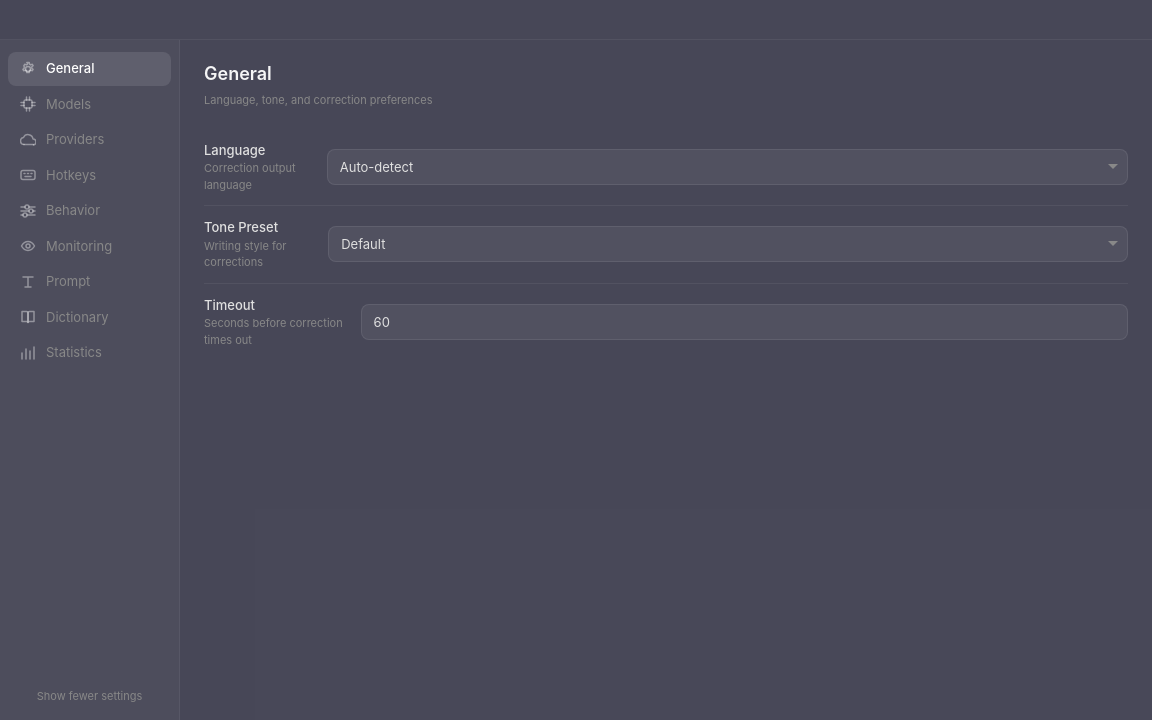
Scenario: Settings component › floating toast appears after config change
Expected: the text "Language" is shown, [204, 142, 266, 158]
Select "Spanish" in the dropdown next to "Correction output language" at (727, 167), box [327, 149, 1128, 185]
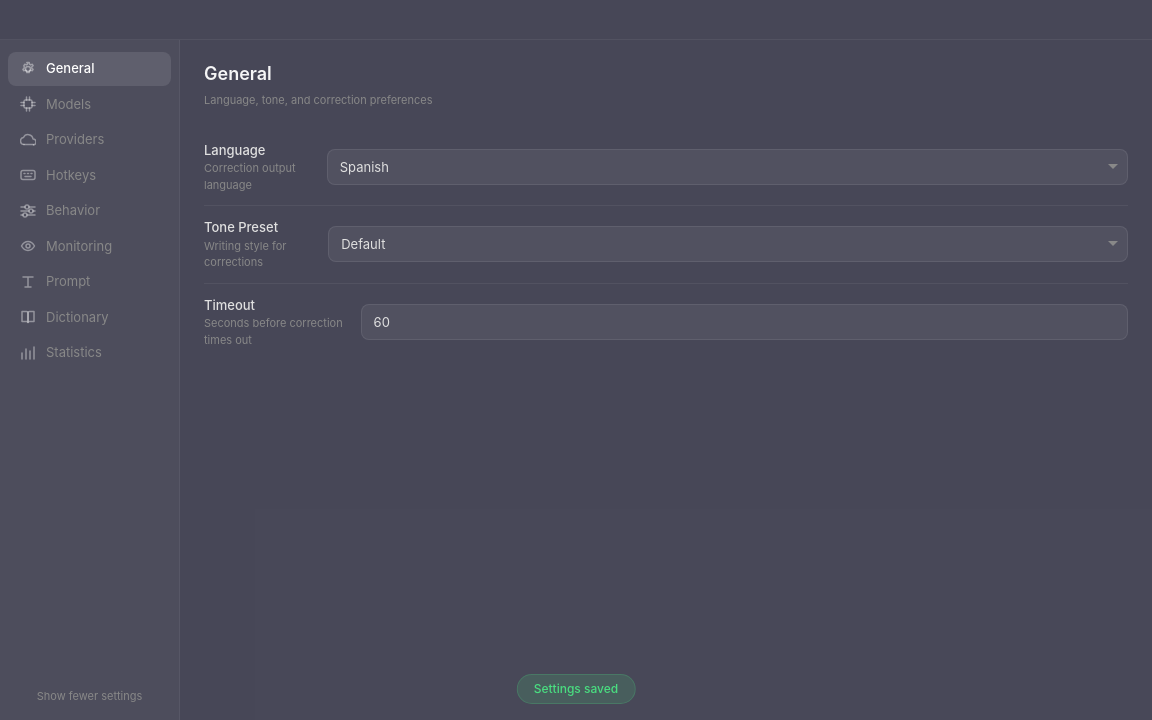
Expected: the text "Settings saved" is shown, [517, 674, 635, 704]
